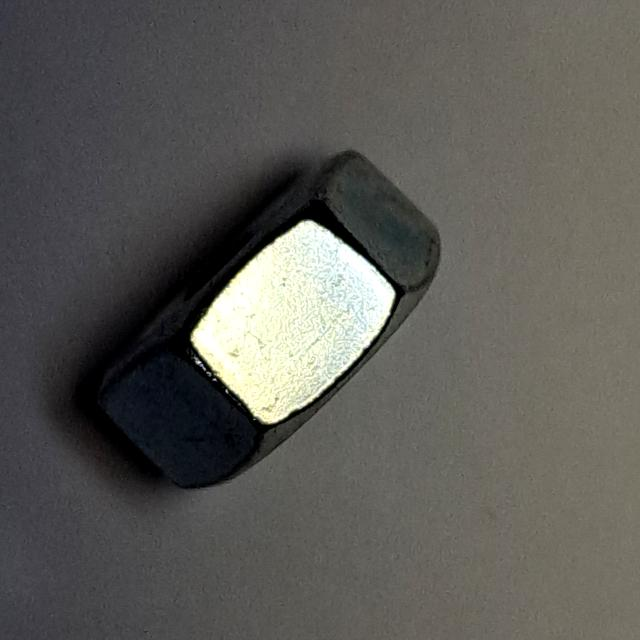Side_Excellent: (76, 126, 466, 513)
